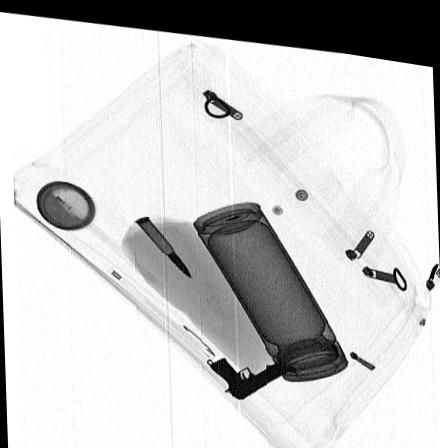Bullet: (135, 212, 189, 272)
Gun: (207, 348, 286, 392)
